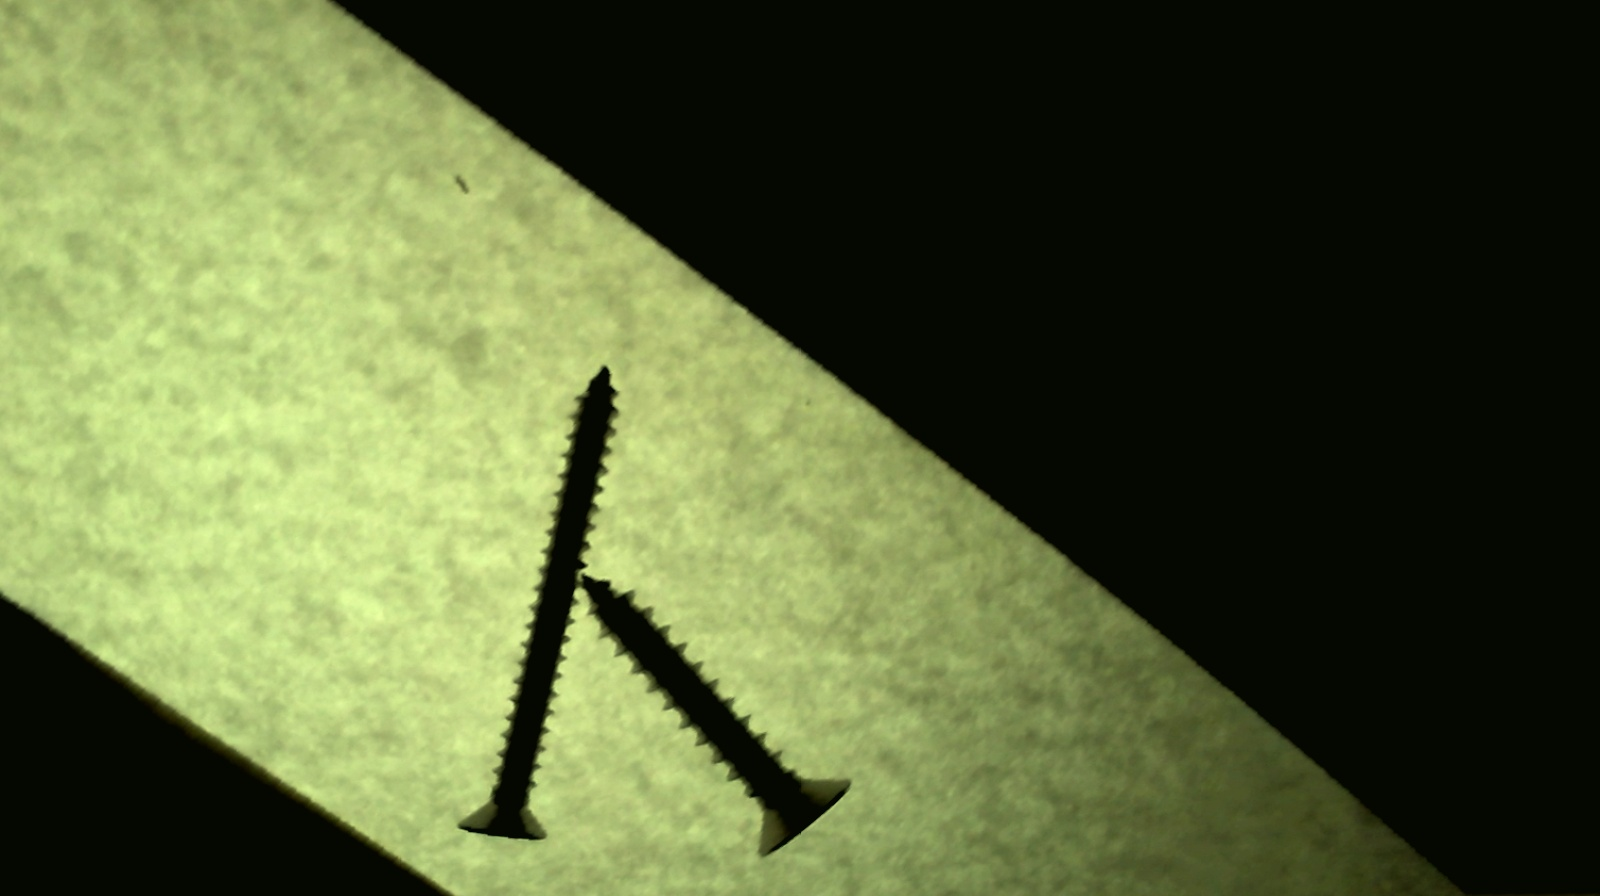S001: (553, 565, 897, 863)
S002: (451, 354, 627, 844)
